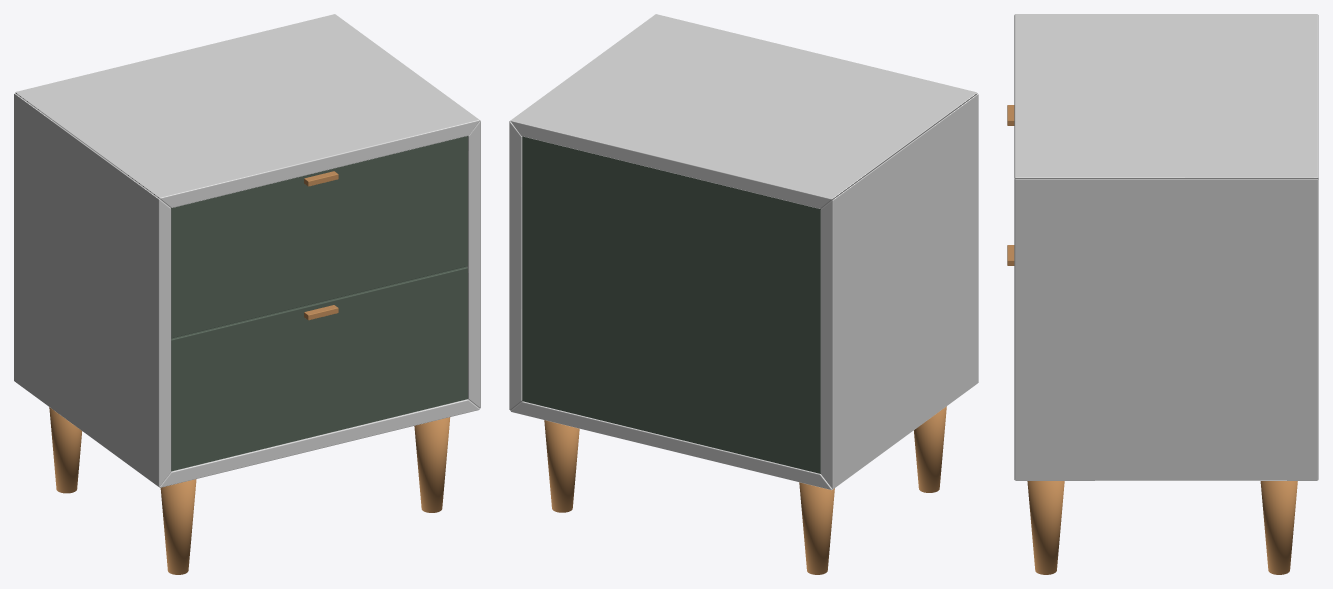
Rendered from MesitaLuz.fbx.
3 renders of one model, left to right at view 1: azimuth 30°, elevation 25°; view 2: azimuth 150°, elevation 25°; view 3: azimuth 270°, elevation 25°, orthographic. The views are drawn at different scales.
Parts seen in each view (by area): view 1: Bedside Table; view 2: Bedside Table; view 3: Bedside Table.
Boxes of the visible parts, x1,y1,x2,y2 form: Bedside Table: (14, 14, 480, 574); Bedside Table: (509, 14, 978, 574); Bedside Table: (1007, 14, 1318, 574).
Size of the model in its own units: 50 by 58 by 39.91.
